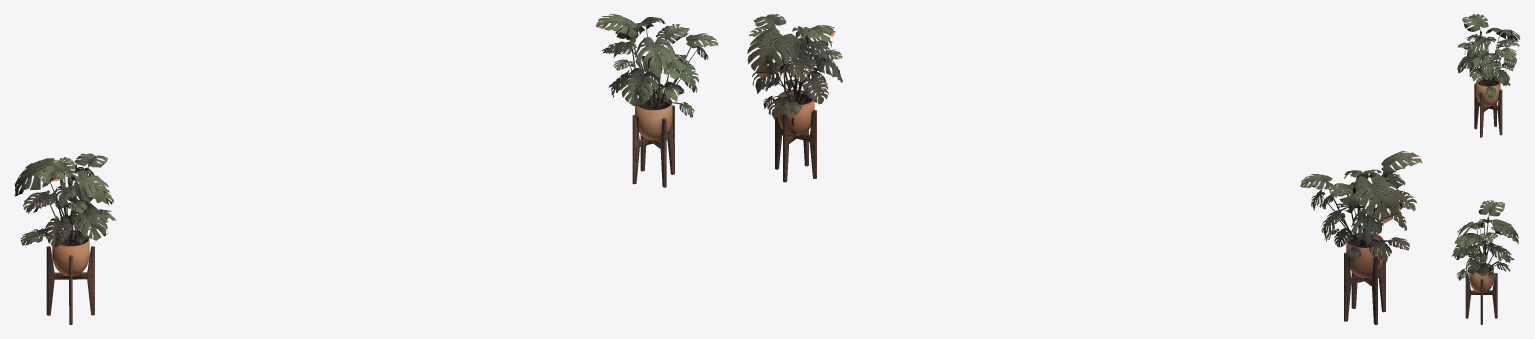
The model's file is plants.glb.
3 renders of one model, left to right at view 1: azimuth 30°, elevation 25°; view 2: azimuth 150°, elevation 25°; view 3: azimuth 270°, elevation 25°, orthographic. The views are drawn at different scales.
Parts seen in each view (by area): view 1: Stand, Stand.001; view 2: Stand.001, Stand; view 3: Stand.001, Stand.
Part boxes in pixels (bbox=[...]): Stand: bbox=[595, 14, 718, 187]; Stand.001: bbox=[14, 153, 116, 324]; Stand.001: bbox=[1300, 151, 1422, 324]; Stand: bbox=[747, 14, 842, 182]; Stand.001: bbox=[1457, 14, 1520, 137]; Stand: bbox=[1451, 200, 1518, 324].
Size of the model in its own units: 6.98 by 1.59 by 0.9373.
Materials: 1 (1 with a texture image).
